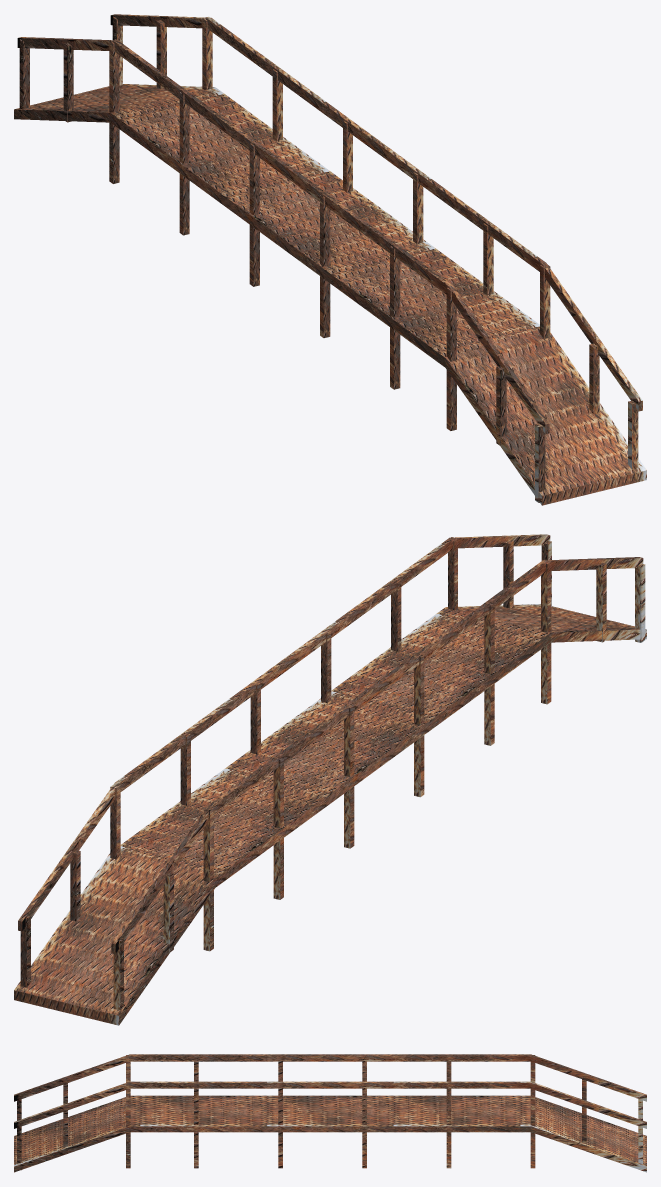
The model's file is bright.FBX.
3 views of the same model, one above another, from view 1: azimuth 30°, elevation 25°; view 2: azimuth 150°, elevation 25°; view 3: azimuth 270°, elevation 25° (orthographic). The views are drawn at different scales.
Visible parts, largest first — view 1: bright; view 2: bright; view 3: bright.
Part boxes in pixels (x1,y1,x2,y2): bright: [14, 14, 646, 505]; bright: [14, 534, 646, 1025]; bright: [14, 1054, 646, 1172].
Size of the model in its own units: 43.04 by 57.39 by 372.
1 material, 1 textured.
